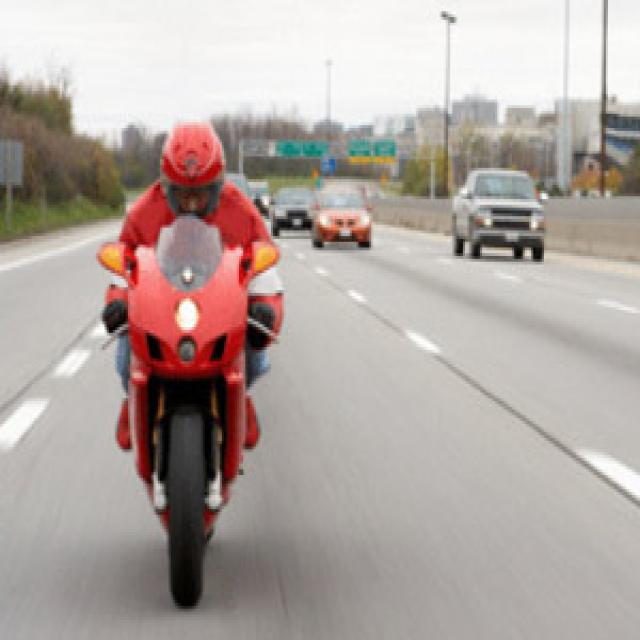helmet: (160, 119, 228, 205)
